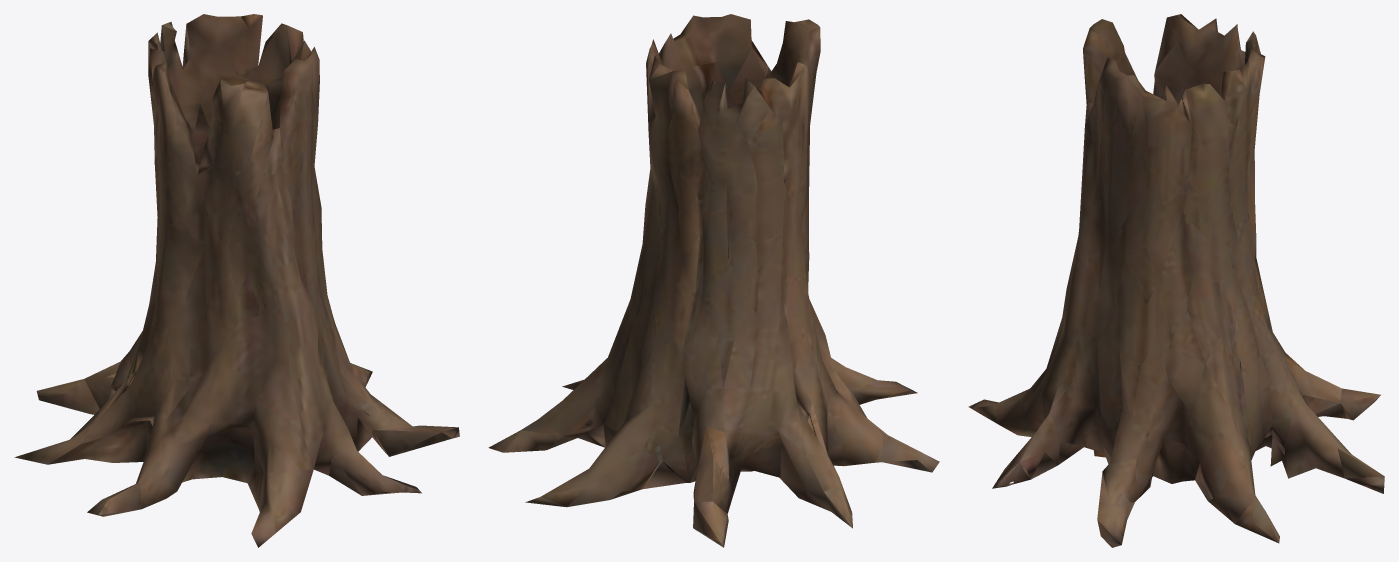
Rendered from stump_dead_tall_lod0.glb.
The picture shows the model from 3 angles, left to right: view 1: azimuth 30°, elevation 25°; view 2: azimuth 150°, elevation 25°; view 3: azimuth 270°, elevation 25°; orthographic projection.
Parts seen in each view (by area): view 1: stump_dead_tall_lod0; view 2: stump_dead_tall_lod0; view 3: stump_dead_tall_lod0.
Boxes of the visible parts, <box> form: stump_dead_tall_lod0: <box>14,14,459,547</box>; stump_dead_tall_lod0: <box>488,14,939,547</box>; stump_dead_tall_lod0: <box>968,14,1384,547</box>.
Size of the model in its own units: 2.05 by 2.2 by 2.02.
Materials: 1 (1 with a texture image).
